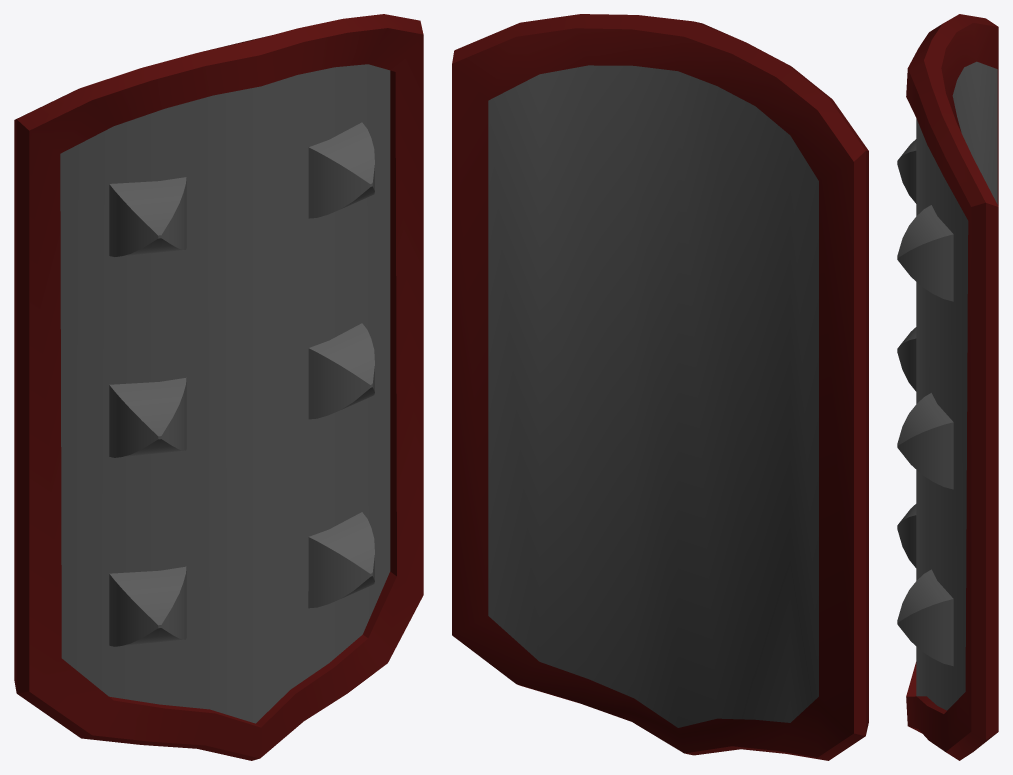
The model's file is shieldLarge.fbx.
The picture shows the model from 3 angles, left to right: view 1: azimuth 30°, elevation 25°; view 2: azimuth 150°, elevation 25°; view 3: azimuth 270°, elevation 25°; orthographic projection. The views are drawn at different scales.
Parts seen in each view (by area): view 1: Shield - Large; view 2: Shield - Large; view 3: Shield - Large.
Part boxes in pixels (left/top/right/bottom): Shield - Large: left=14, top=14, right=423, bottom=760; Shield - Large: left=452, top=14, right=868, bottom=760; Shield - Large: left=897, top=14, right=998, bottom=760.
Bounding box in the file's own units: 50.12 × 11.68 × 85.42.
